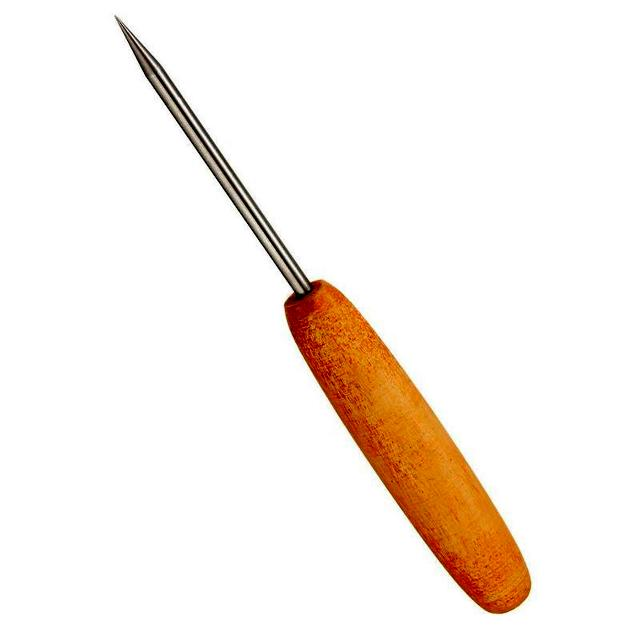ice pick: (112, 14, 534, 616)
